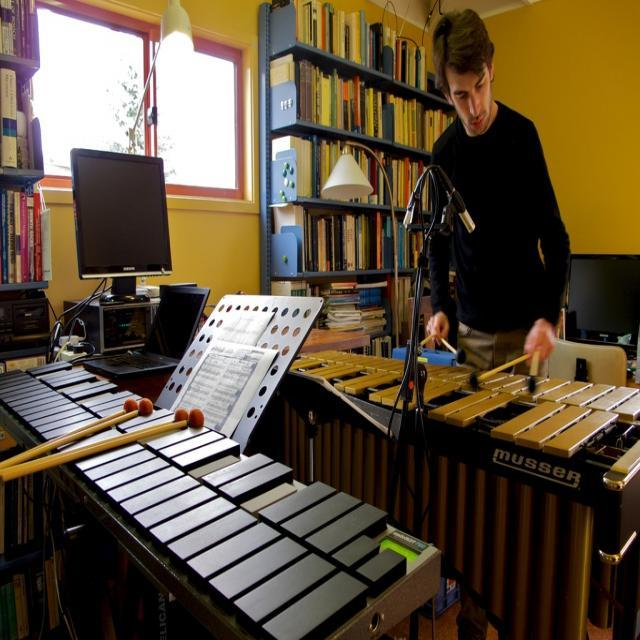others: (63, 141, 196, 292)
